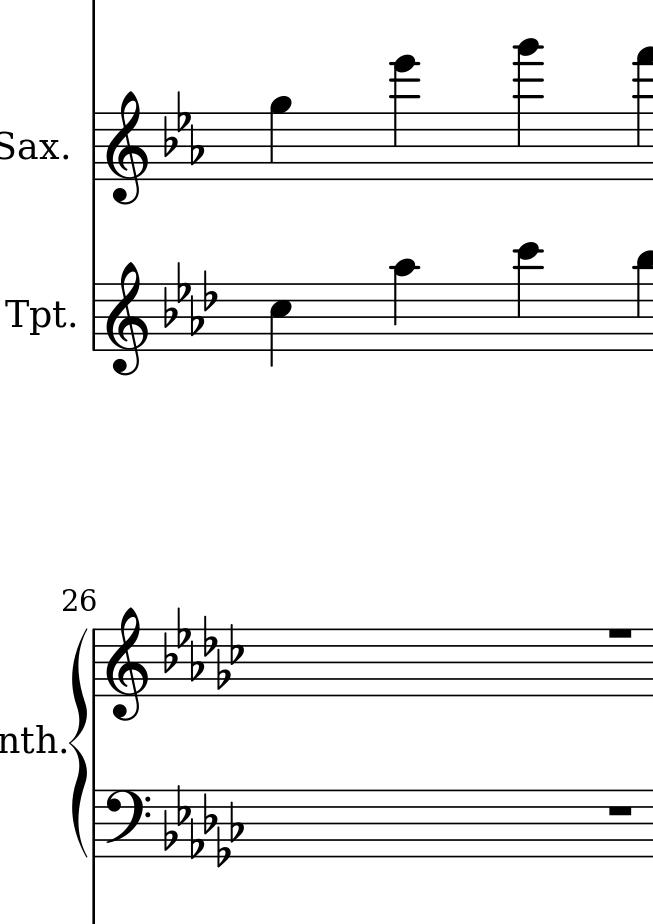2: (60, 588, 82, 613)
4_10: (390, 257, 418, 353)
4_12: (512, 242, 543, 353)
4_14: (389, 54, 419, 182)
4_16: (513, 36, 543, 182)
4_5: (268, 282, 293, 368)
4_9: (267, 93, 292, 181)
6: (79, 587, 97, 612)
A_F: (162, 261, 219, 335)
Brace: (70, 626, 89, 856)
E_F: (165, 89, 202, 164)
Fclef: (103, 788, 150, 842)
G_F: (161, 608, 245, 690), (163, 784, 244, 867)
Gclef: (104, 89, 151, 207), (104, 261, 150, 378), (105, 605, 150, 722)
Rests1: (604, 801, 638, 820), (603, 624, 635, 642)
Sax: (1, 128, 61, 166)
Single_barline: (88, 283, 102, 351), (88, 112, 101, 182), (89, 789, 102, 856), (89, 629, 102, 695)
Tpt: (3, 294, 66, 337)
